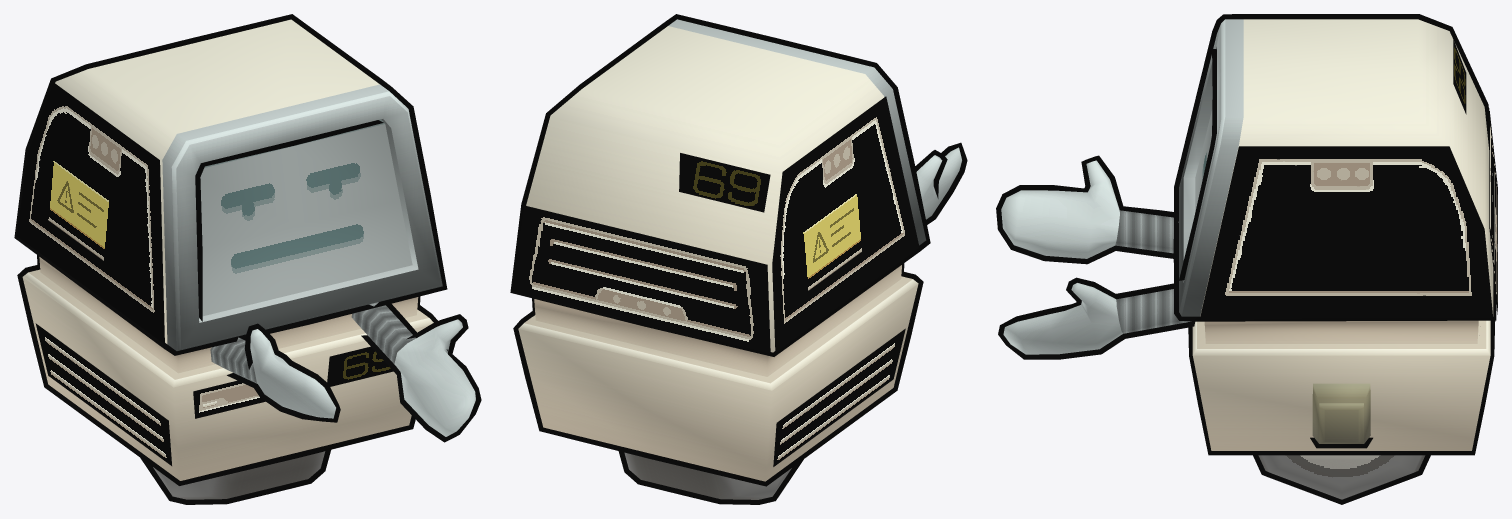
File: bot_archive.glb
3 views of the same model, side by side, from view 1: azimuth 30°, elevation 25°; view 2: azimuth 150°, elevation 25°; view 3: azimuth 270°, elevation 25° (orthographic). The views are drawn at different scales.
Visible parts, largest first — view 1: bot_archive; view 2: bot_archive; view 3: bot_archive.
Part boxes in pixels (bbox=[...]): bot_archive: bbox=[14, 14, 481, 504]; bot_archive: bbox=[510, 14, 967, 504]; bot_archive: bbox=[996, 14, 1497, 504].
Size of the model in its own units: 1.3 by 1.82 by 1.97.
Materials: 1 (1 with a texture image).
